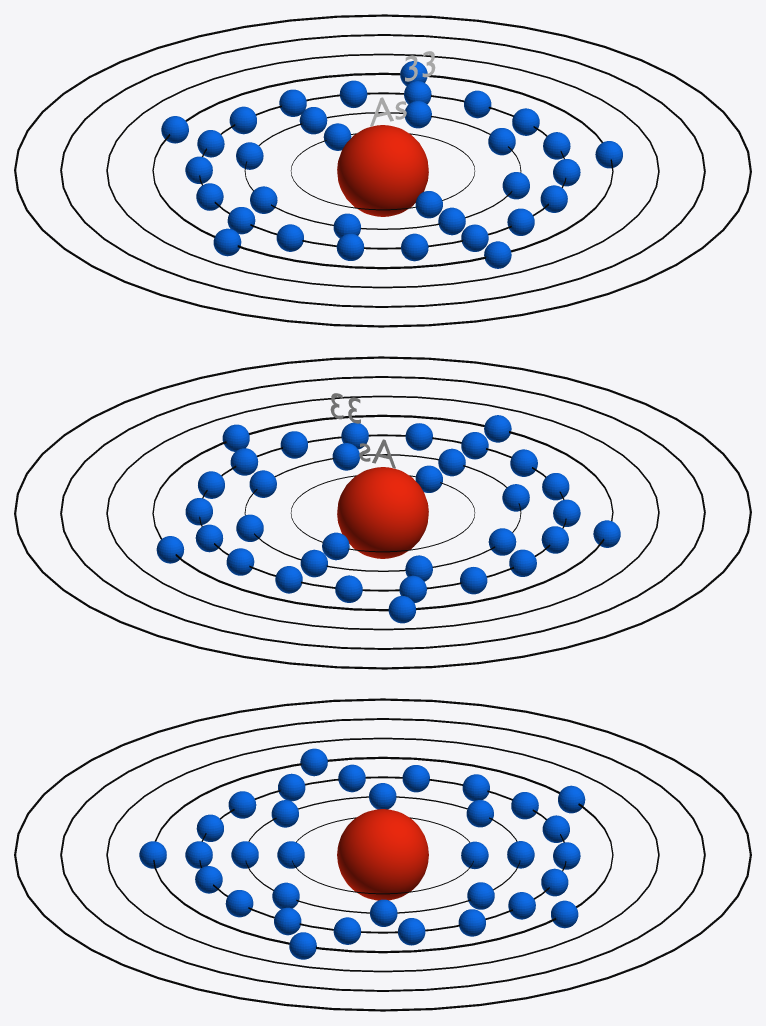
The picture shows the model from 3 angles, top to bottom: view 1: azimuth 30°, elevation 25°; view 2: azimuth 150°, elevation 25°; view 3: azimuth 270°, elevation 25°; orthographic projection.
Parts seen in each view (by area): view 1: As3, Proton, As2, n7, n6, n5, As4, n4, As1, n3, n2; view 2: As3, Proton, As2, n7, n6, As4, n5, n4, As1, n3, n2; view 3: As3, Proton, As2, n7, n6, As4, n5, n4, As1, n3, n2, n1.
Boxes of the visible parts, left/top/right/bottom form: As3: left=185, top=80, right=580, bottom=261; Proton: left=337, top=125, right=428, bottom=216; As2: left=236, top=101, right=529, bottom=238; n7: left=14, top=14, right=751, bottom=327; n6: left=60, top=34, right=705, bottom=307; n5: left=106, top=53, right=659, bottom=288; As4: left=161, top=61, right=622, bottom=268; n4: left=152, top=72, right=613, bottom=269; As1: left=323, top=123, right=442, bottom=218; n3: left=199, top=92, right=566, bottom=249; n2: left=244, top=112, right=521, bottom=229; As3: left=185, top=422, right=580, bottom=603; Proton: left=337, top=467, right=428, bottom=558; As2: left=236, top=443, right=529, bottom=581; n7: left=14, top=356, right=751, bottom=669; n6: left=60, top=376, right=705, bottom=649; As4: left=156, top=415, right=620, bottom=623; n5: left=106, top=395, right=659, bottom=630; n4: left=152, top=414, right=613, bottom=611; As1: left=322, top=465, right=442, bottom=560; n3: left=199, top=434, right=566, bottom=591; n2: left=244, top=454, right=521, bottom=571; As3: left=185, top=764, right=580, bottom=945; Proton: left=337, top=809, right=428, bottom=900; As2: left=231, top=783, right=534, bottom=926; n7: left=14, top=698, right=751, bottom=1011; n6: left=60, top=718, right=705, bottom=991; As4: left=139, top=748, right=585, bottom=959; n5: left=106, top=737, right=659, bottom=972; n4: left=153, top=756, right=613, bottom=953; As1: left=277, top=841, right=488, bottom=869; n3: left=199, top=776, right=566, bottom=933; n2: left=245, top=796, right=520, bottom=913; n1: left=292, top=817, right=473, bottom=894.
Size of the model in its own units: 802 by 180 by 802.
